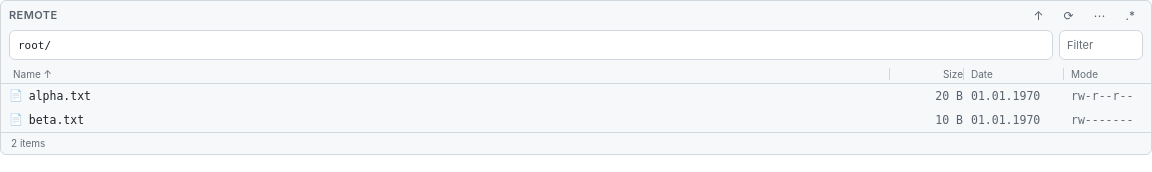
Test case: FilePane interactions › keeps sorting, filtering, selection and status feedback connected
Click the button "Size": (926, 74) left=889, top=65, right=963, bottom=83
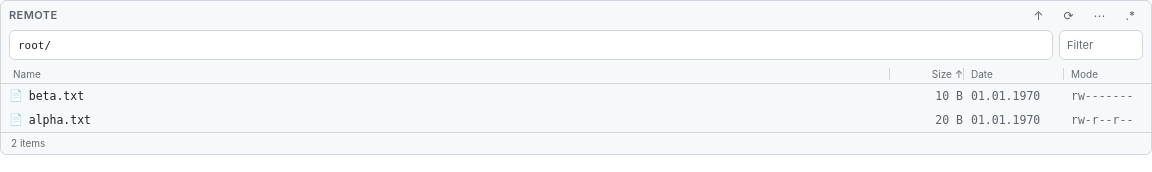
In the field with placeholder "Filter": (1101, 45) left=1059, top=30, right=1143, bottom=60, type "alpha"
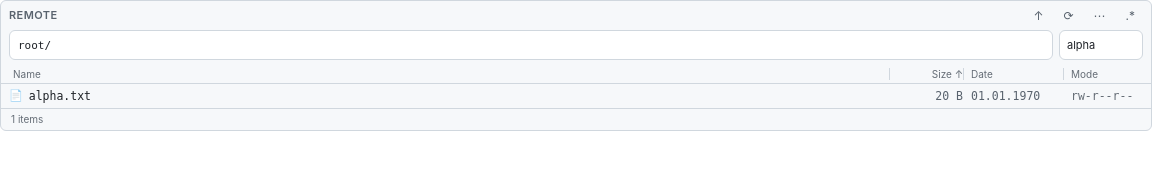
Now the number of options is 1
Click the option "📄 alpha.txt 20 B 01.01.1970 rw-r--r--": (60, 96) left=9, top=89, right=1133, bottom=103
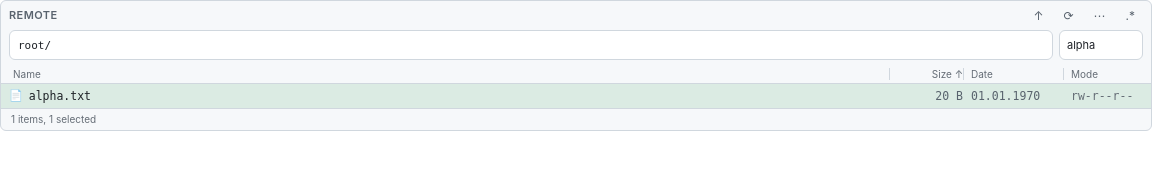
Now the text "1 items, 1 selected" is shown, box left=11, top=112, right=96, bottom=126
